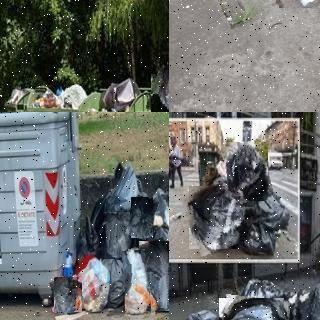Garbage: (185, 183, 248, 253), (224, 140, 271, 203), (133, 239, 169, 313), (277, 269, 320, 320), (216, 296, 287, 320), (124, 250, 150, 315), (79, 255, 109, 311), (102, 212, 131, 260), (52, 276, 84, 314), (128, 196, 156, 239), (105, 254, 125, 310), (148, 70, 169, 112)
